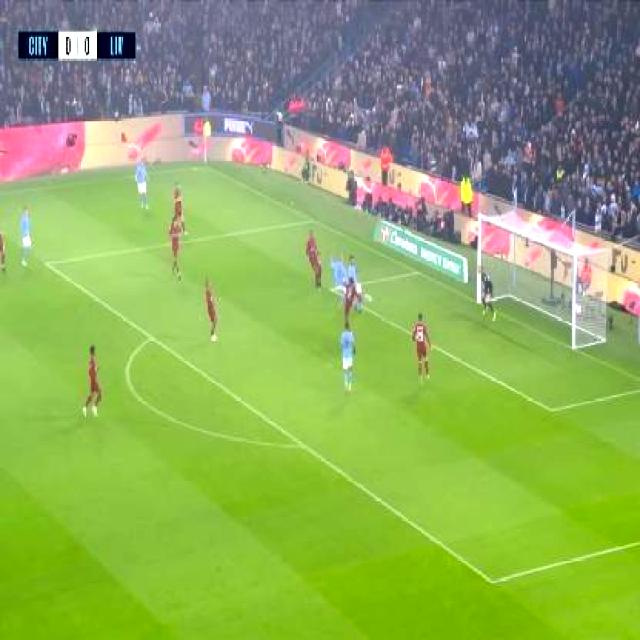bigarea_bottom_inner: (477, 562, 506, 598)
bigarea_top_inner: (34, 248, 57, 278)
bigarea_top_outter: (303, 208, 322, 232)
bottom_arc_area_intersection: (291, 428, 315, 462)
corner: (192, 158, 212, 174)
smallarea_bottom_inner: (537, 392, 561, 425)
smallarea_top_inner: (328, 278, 342, 298)
smallarea_top_outter: (406, 260, 428, 285)
top_arc_area_intersection: (139, 323, 163, 351)
